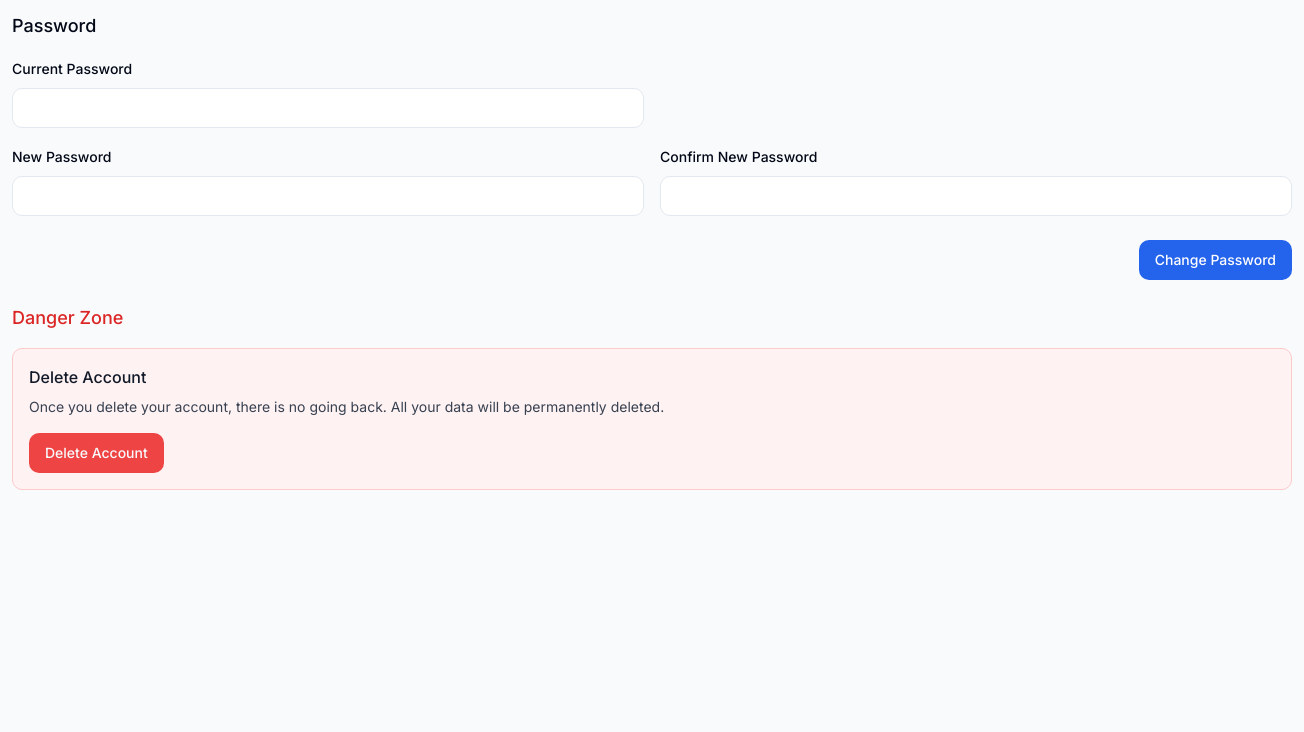
AccountSection — successful password change › calls changePassword, shows success toast, and clears the form
The image size is (1304, 732).
Type "currentPass" into the password field labelled "Current Password" at (328, 108), box [12, 88, 644, 128]
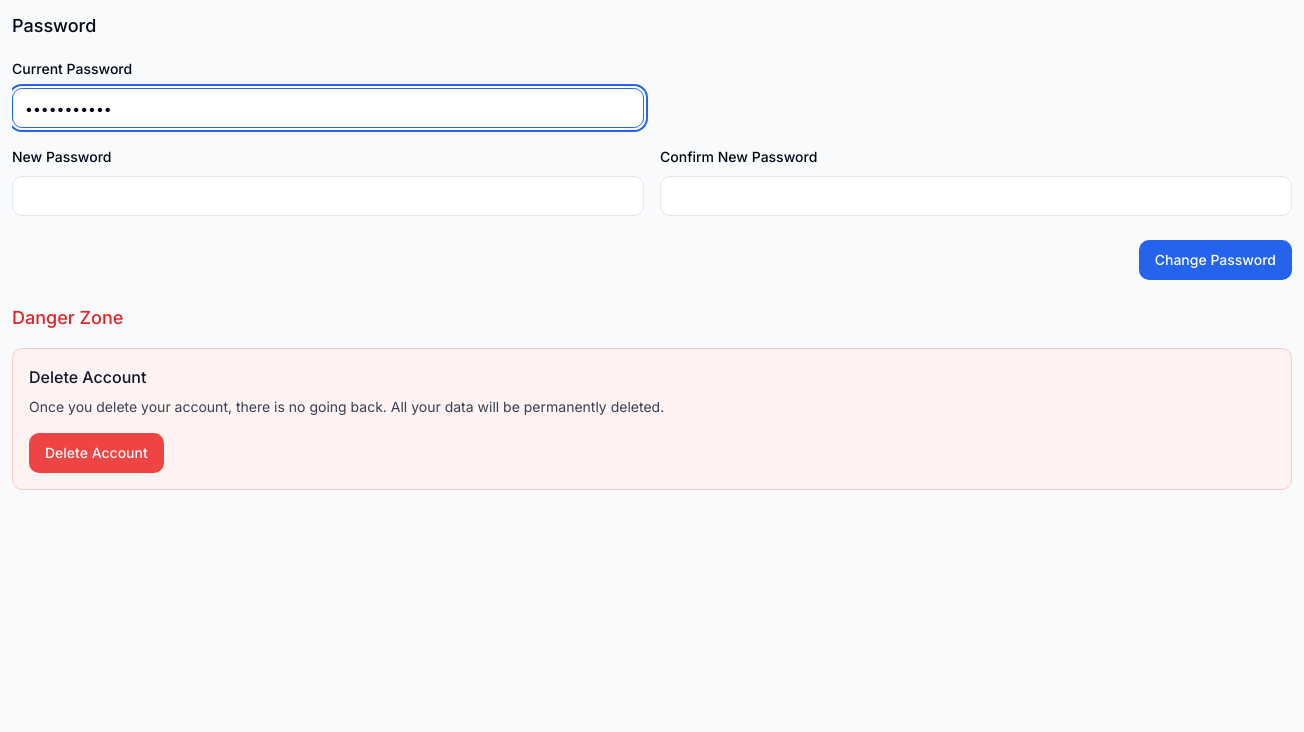
Type "newPassword1" into the password field with id "newPassword" at (328, 196), box [12, 176, 644, 216]
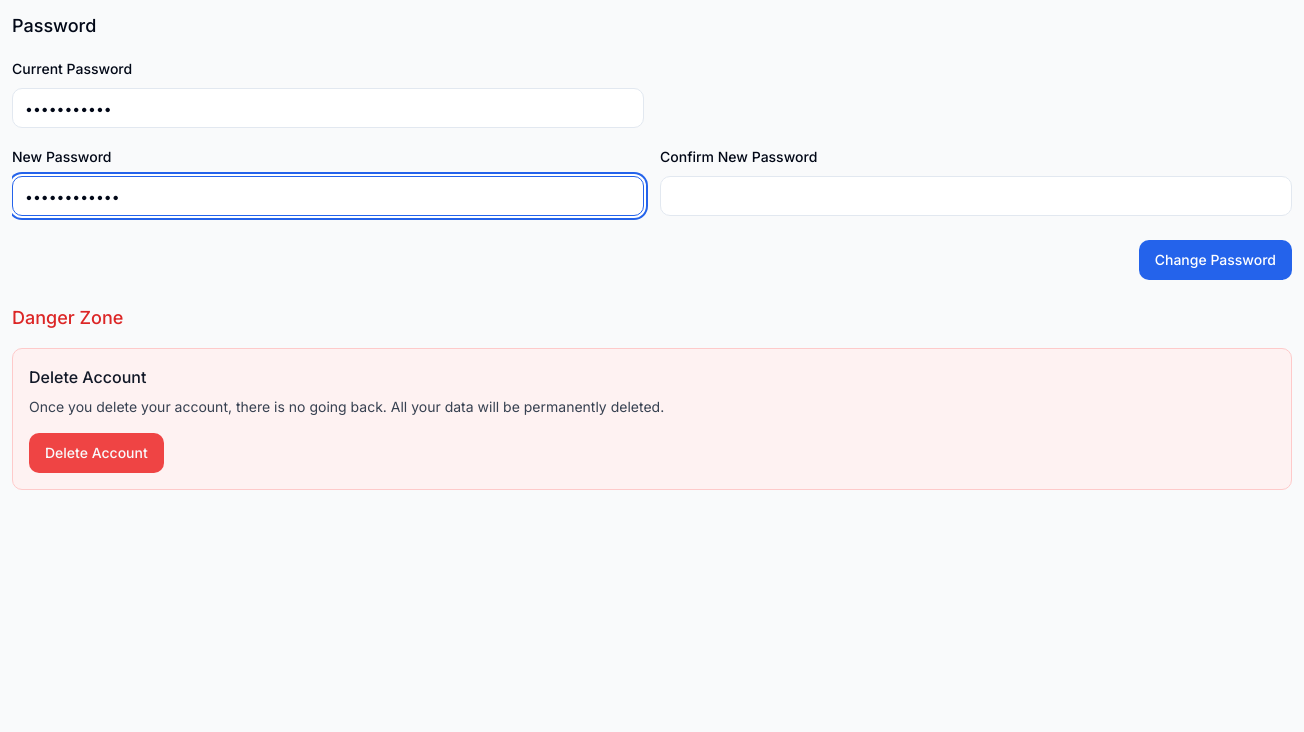
Type "newPassword1" into the password field labelled "Confirm New Password" at (976, 196), box [660, 176, 1292, 216]
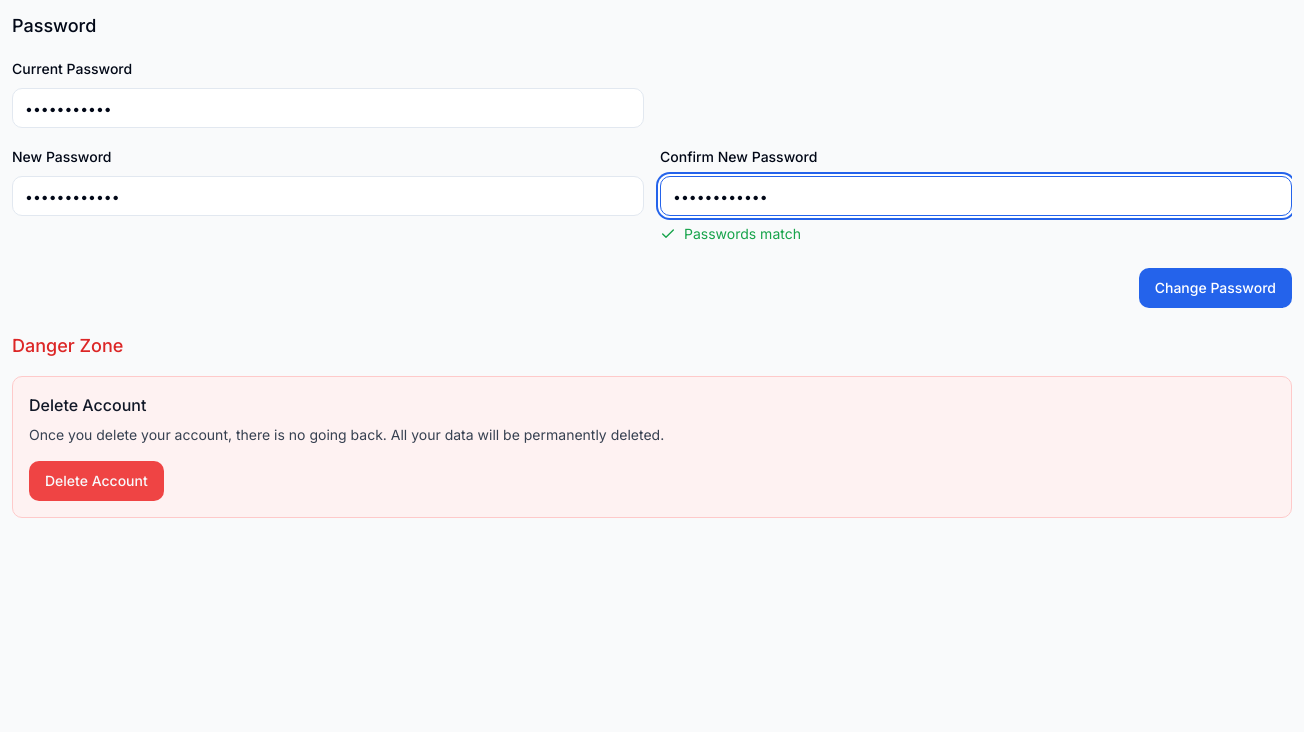
Click the button "Change Password" at (1215, 288), box [1139, 268, 1292, 308]
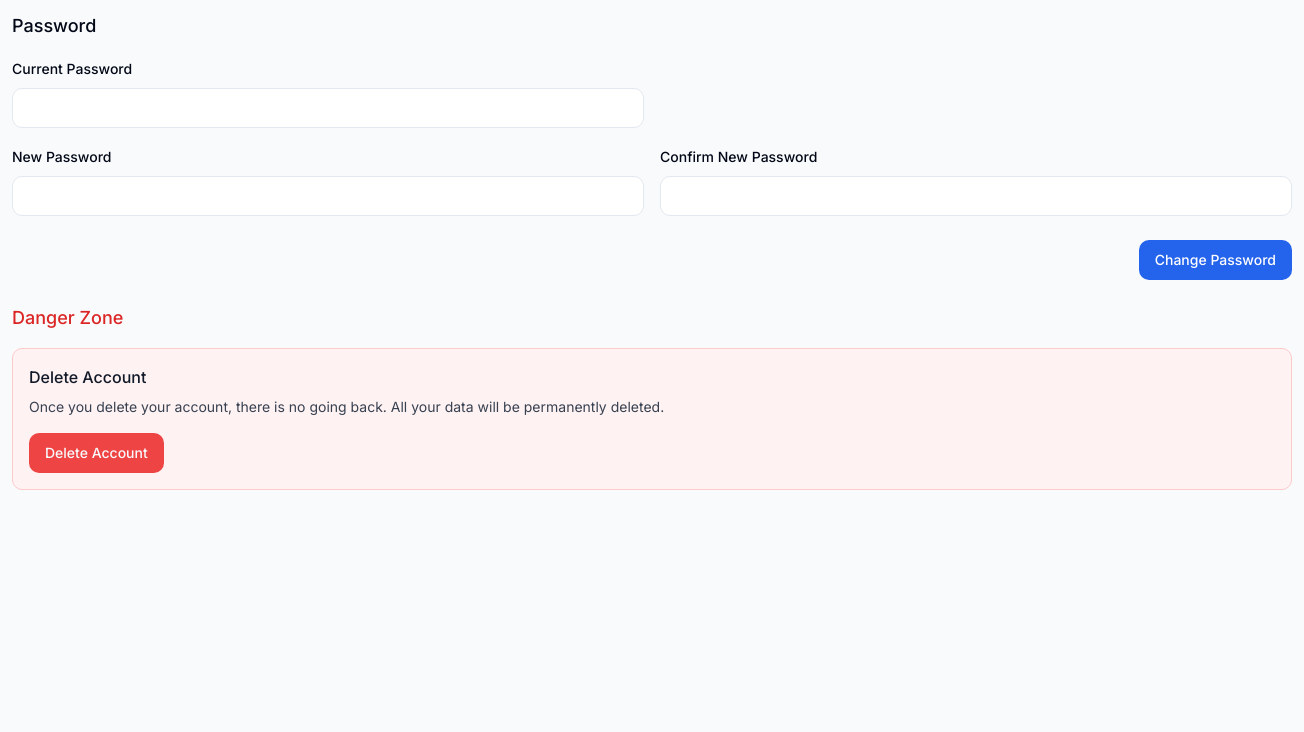
Expected: the password field labelled "Current Password" is empty, [12, 88, 644, 128]
